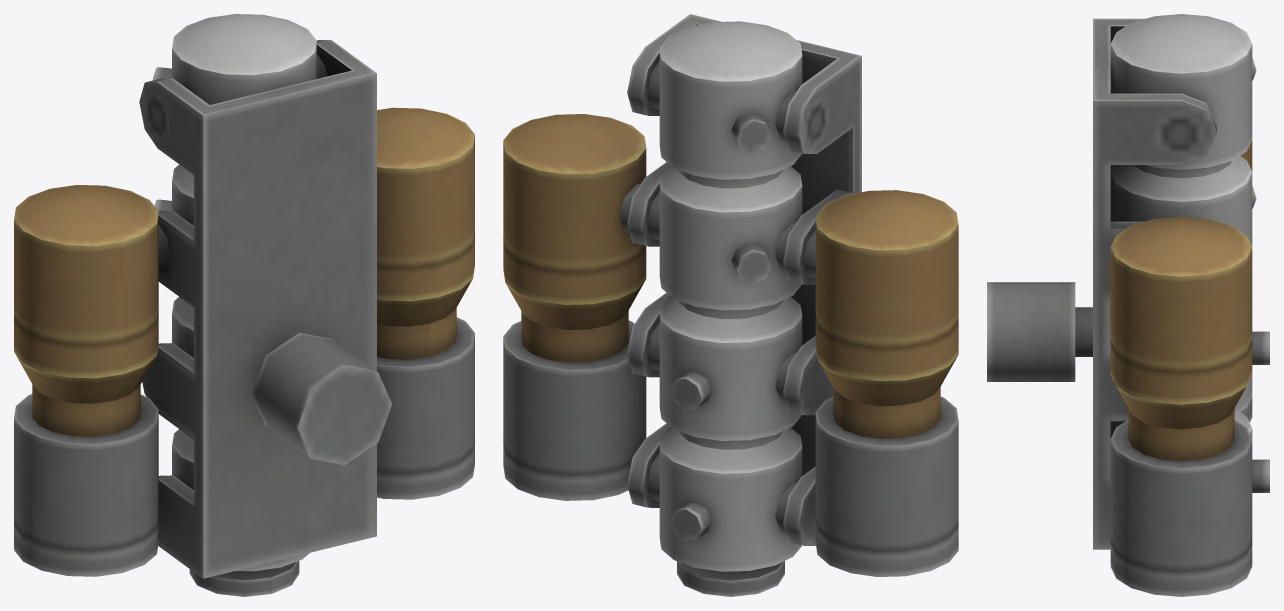
The model's file is 4mv_star_tracker_srf_1.obj.
The picture shows the model from 3 angles, left to right: view 1: azimuth 30°, elevation 25°; view 2: azimuth 150°, elevation 25°; view 3: azimuth 270°, elevation 25°; orthographic projection. The views are drawn at different scales.
Parts seen in each view (by area): view 1: mesh1; view 2: mesh1; view 3: mesh1.
Part boxes in pixels (box(x1,y1,x2,y2)): mesh1: box(14, 14, 474, 596); mesh1: box(503, 14, 958, 596); mesh1: box(987, 14, 1269, 596).
Bounding box in the file's own units: 0.35 × 0.4125 × 0.2.
1 material, 1 textured.
